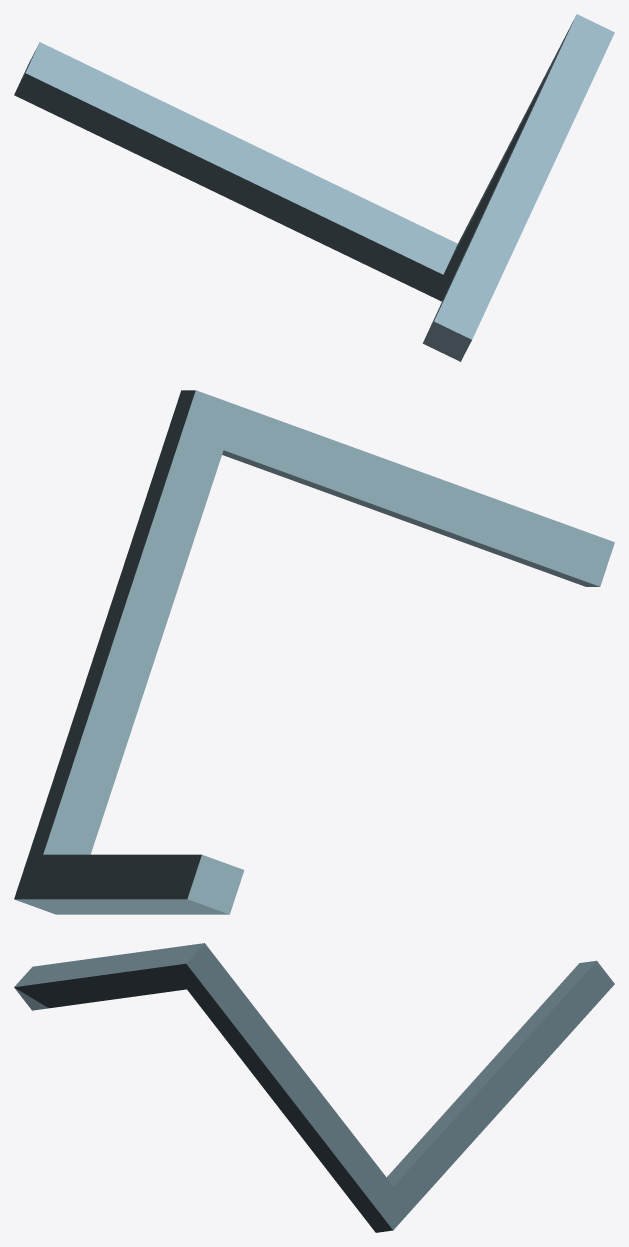
File: triangle.gltf
3 renders of one model, top to bottom at view 1: azimuth 30°, elevation 25°; view 2: azimuth 150°, elevation 25°; view 3: azimuth 270°, elevation 25°, orthographic. The views are drawn at different scales.
Parts seen in each view (by area): view 1: Triangle; view 2: Triangle; view 3: Triangle.
Boxes of the visible parts, left/top/right/bottom form: Triangle: left=14, top=14, right=614, bottom=361; Triangle: left=14, top=390, right=614, bottom=914; Triangle: left=14, top=943, right=614, bottom=1232.
Bounding box in the file's own units: 4.23 × 4.72 × 8.96.
